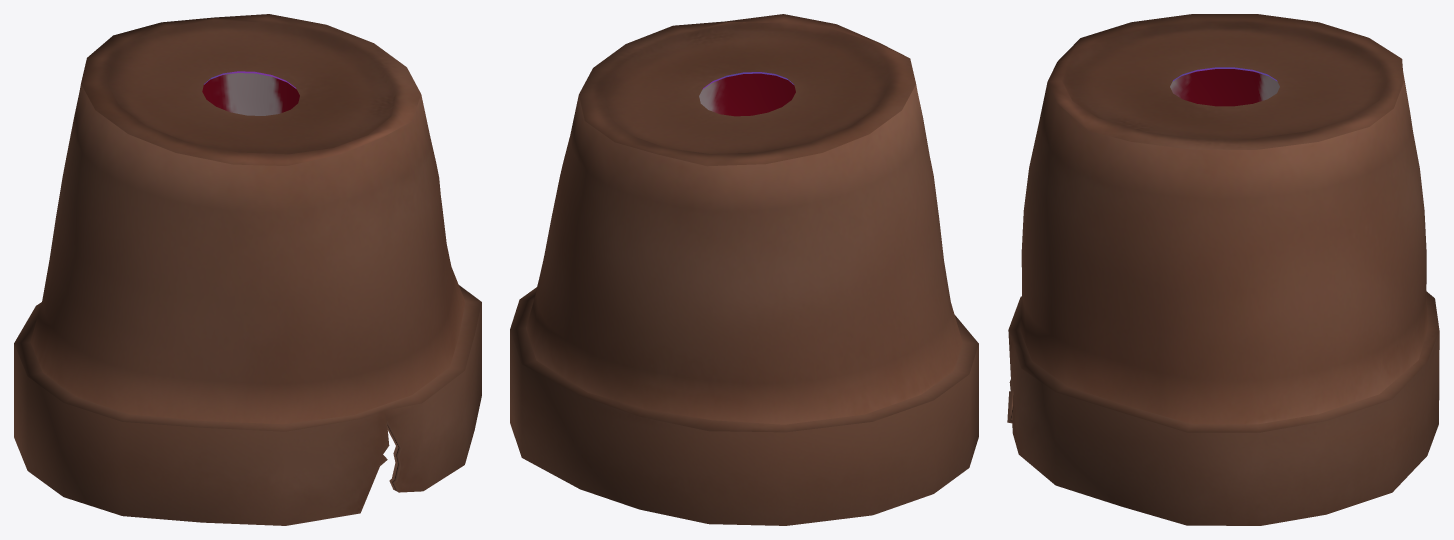
File: FlowerPot.fbx
3 views of the same model, side by side, from view 1: azimuth 30°, elevation 25°; view 2: azimuth 150°, elevation 25°; view 3: azimuth 270°, elevation 25° (orthographic).
Visible parts, largest first — view 1: Cylinder001; view 2: Cylinder001; view 3: Cylinder001.
Boxes of the visible parts, x1,y1,x2,y2 form: Cylinder001: [14, 14, 481, 525]; Cylinder001: [510, 14, 978, 525]; Cylinder001: [1007, 14, 1439, 525].
Bounding box in the file's own units: 133 × 107 × 121.
